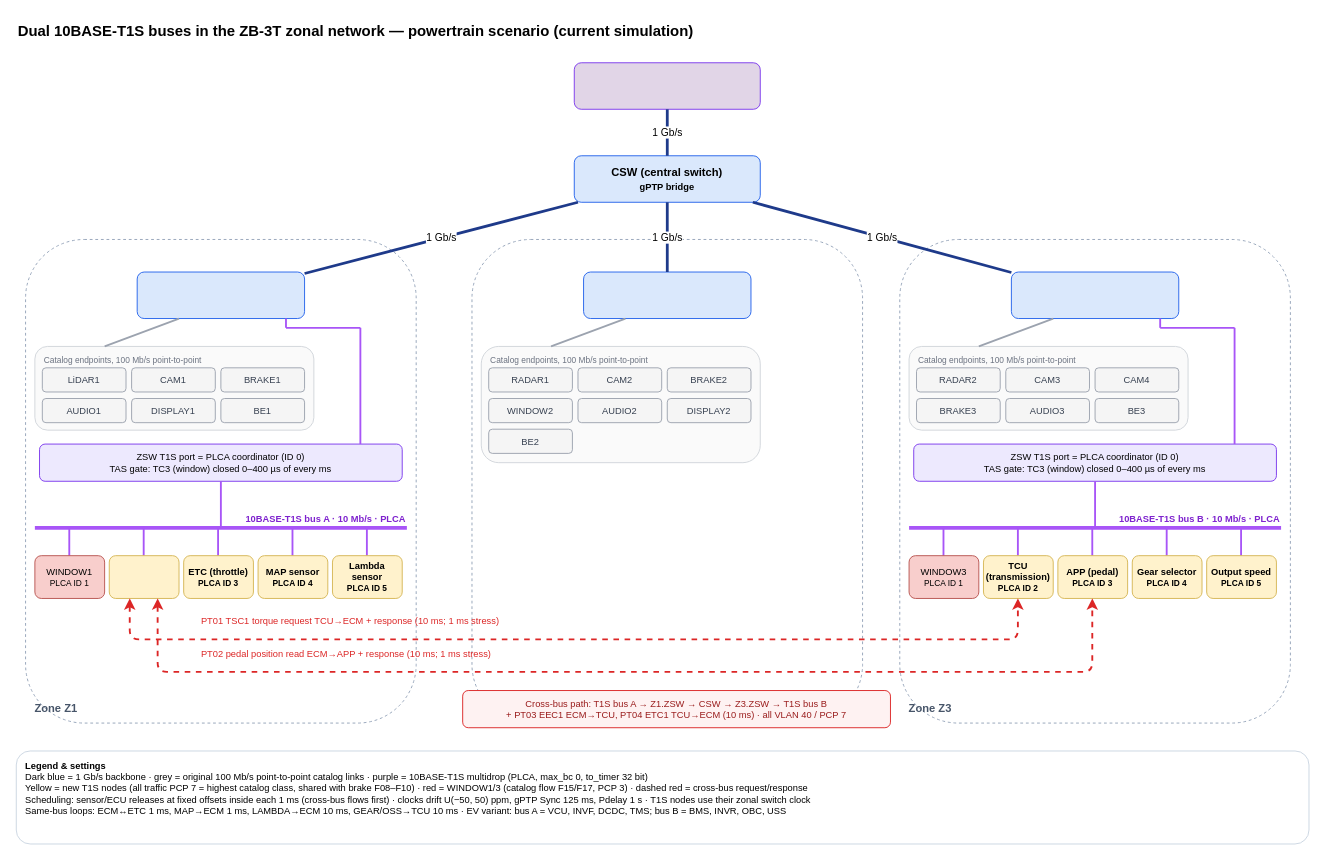
The diagram is 1335 pixels wide and 860 high, and some of its shapes have lost their labels. Here are the shapes that lost their labels. From the top down, the centre of each, then its label:
At point 666,85: "HPC (vehicle computer) gPTP grandmaster".
At point 220,295: "Z1.ZSW (zonal switch) gPTP slave".
At point 667,295: "Z2.ZSW (zonal switch) gPTP slave".
At point 1094,295: "Z3.ZSW (zonal switch) gPTP slave".
At point 143,576: "ECM (injection ECU) PLCA ID 2".
